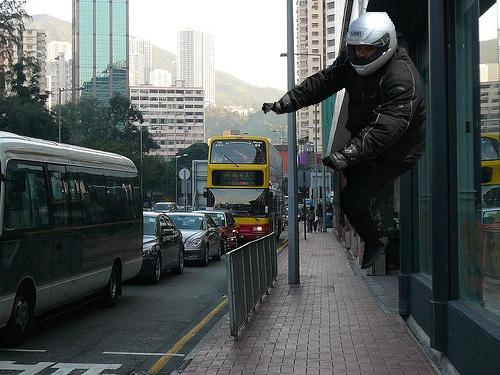tampered: (263, 13, 426, 269)
